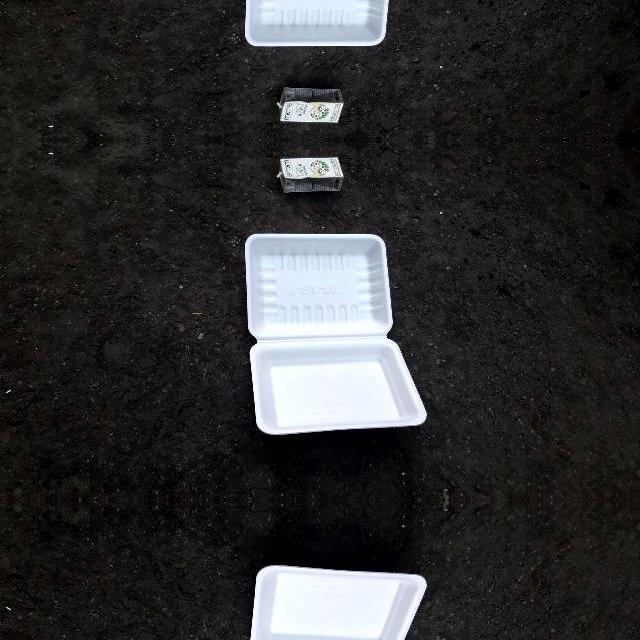Styrofoam: (244, 231, 426, 434), (245, 234, 427, 434), (243, 566, 426, 640), (251, 566, 427, 640), (243, 0, 426, 49), (245, 0, 389, 46)
